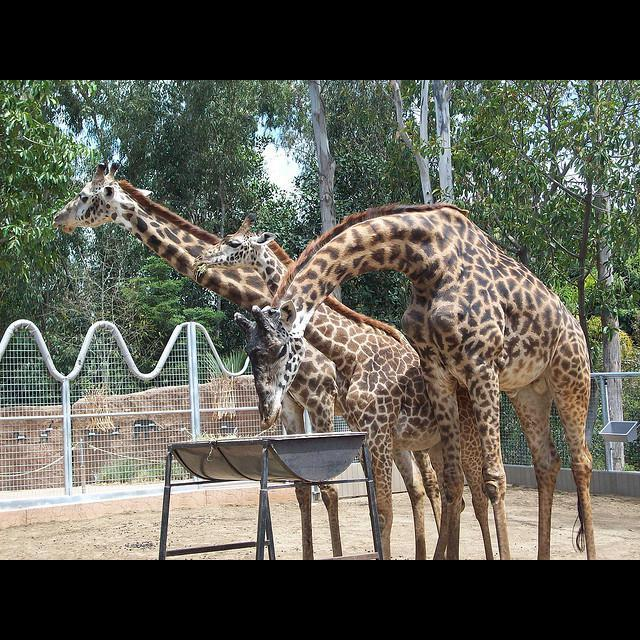giraffe: (49, 160, 443, 560), (232, 202, 600, 560), (193, 212, 494, 560)
